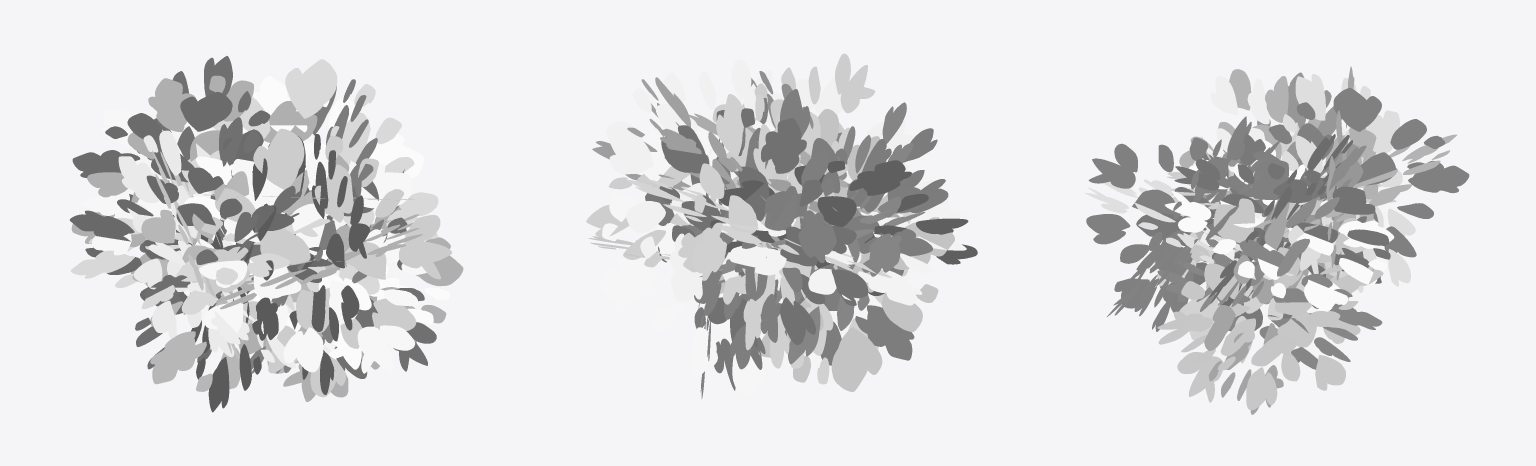
The model's file is grass5.fbx.
3 renders of one model, left to right at view 1: azimuth 30°, elevation 25°; view 2: azimuth 150°, elevation 25°; view 3: azimuth 270°, elevation 25°, orthographic. The views are drawn at different scales.
Parts seen in each view (by area): view 1: 나뭇잎.005; view 2: 나뭇잎.005; view 3: 나뭇잎.005.
Part boxes in pixels (bbox=[...]): 나뭇잎.005: bbox=[70, 56, 463, 412]; 나뭇잎.005: bbox=[586, 53, 977, 398]; 나뭇잎.005: bbox=[1084, 66, 1469, 414].
Bounding box in the file's own units: 4.97 × 4.62 × 5.15.
